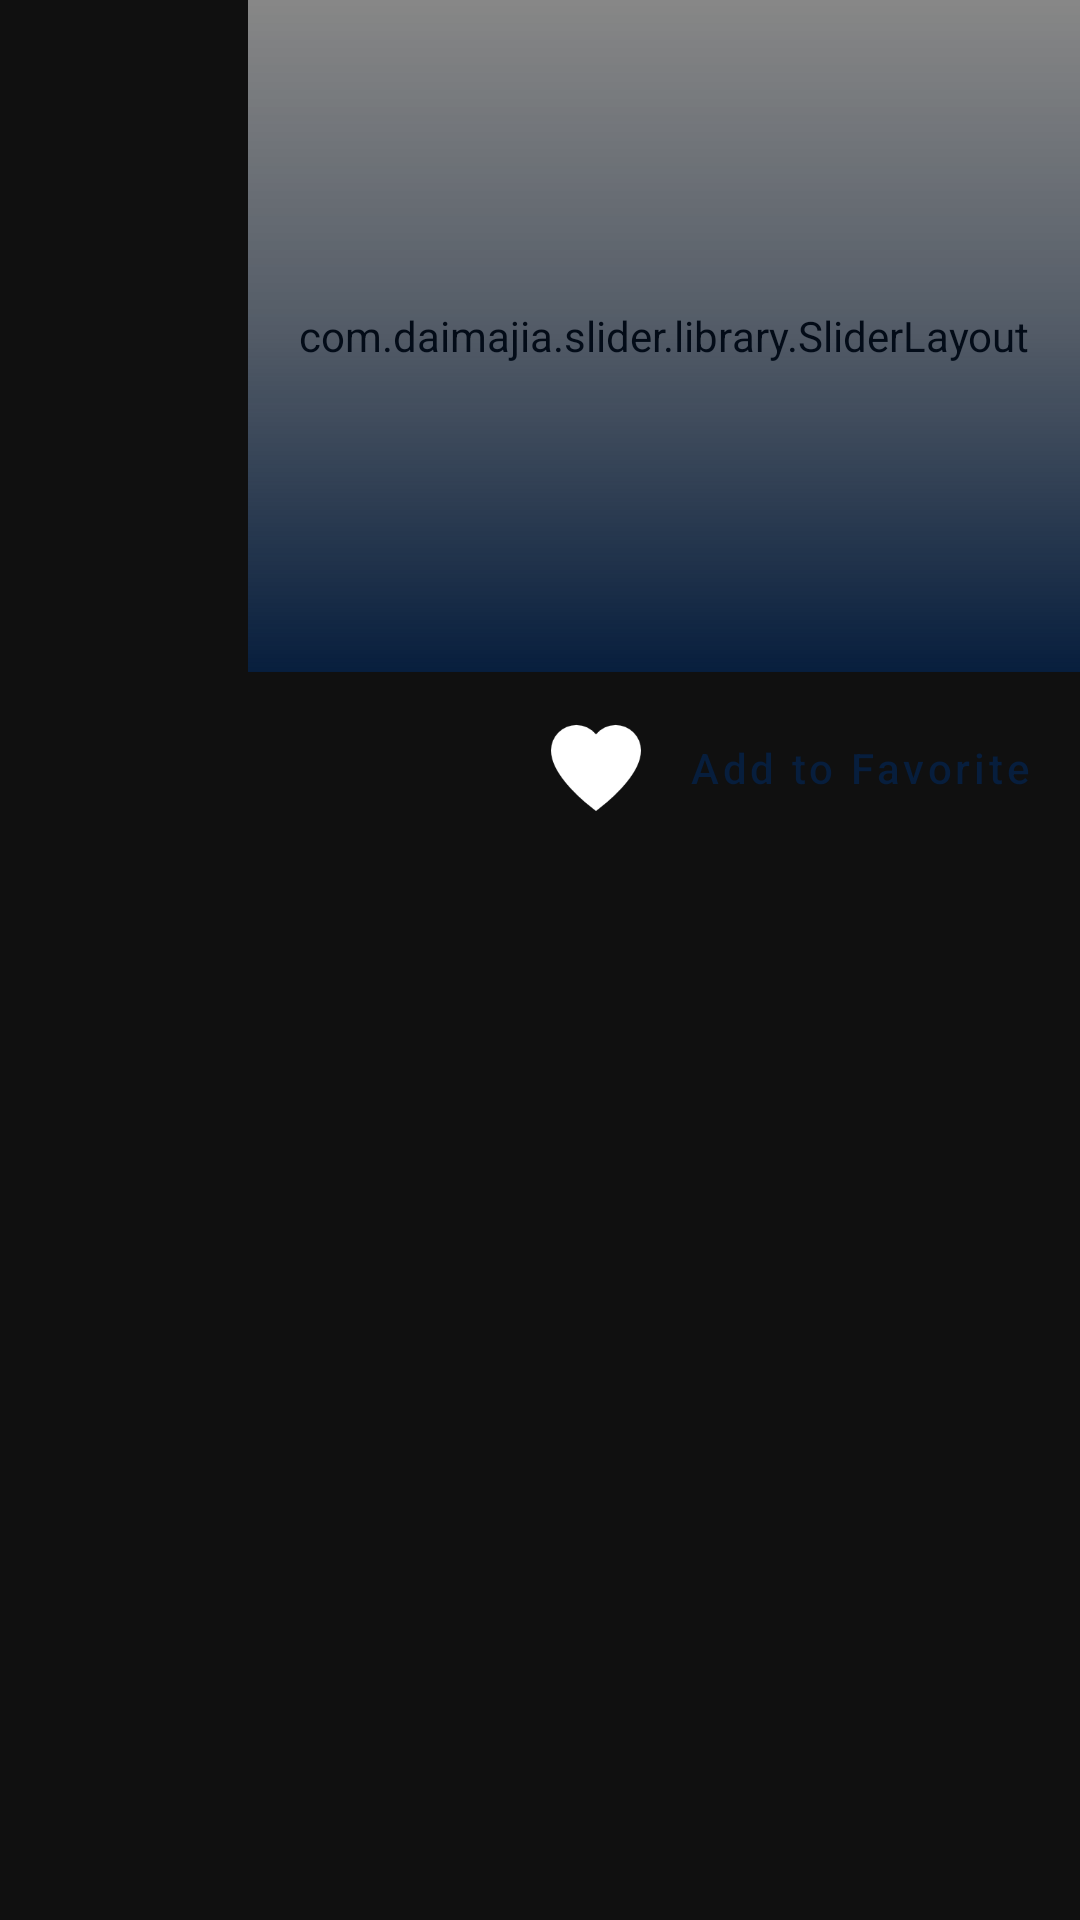

Where icons sit on this 1080*1920 app screen, as (x1, y1, x2, y2):
heart: (551, 725, 641, 811)
